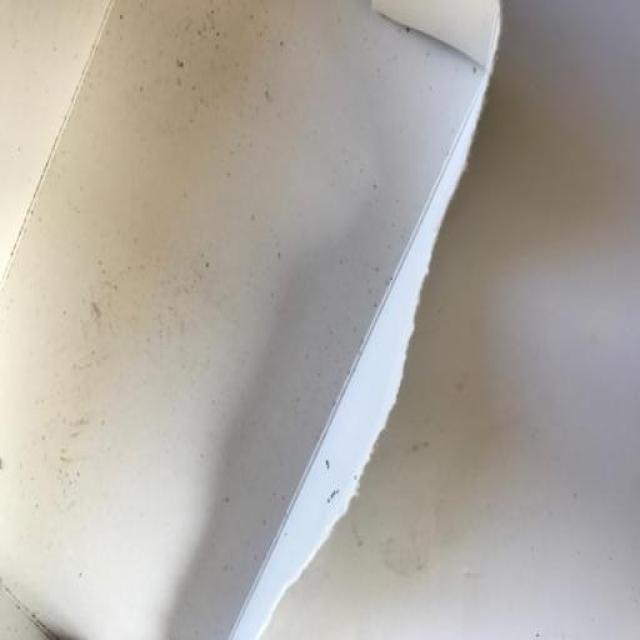paper: (3, 7, 554, 620)
